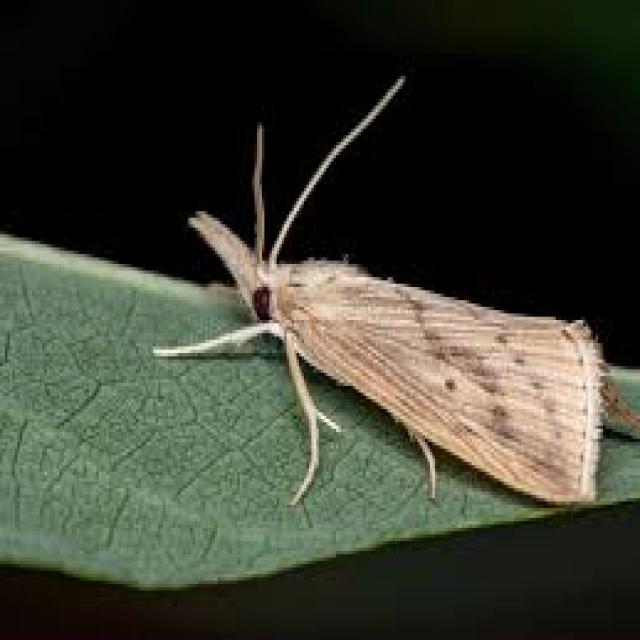yellow-stem-borer: (163, 89, 634, 563)
